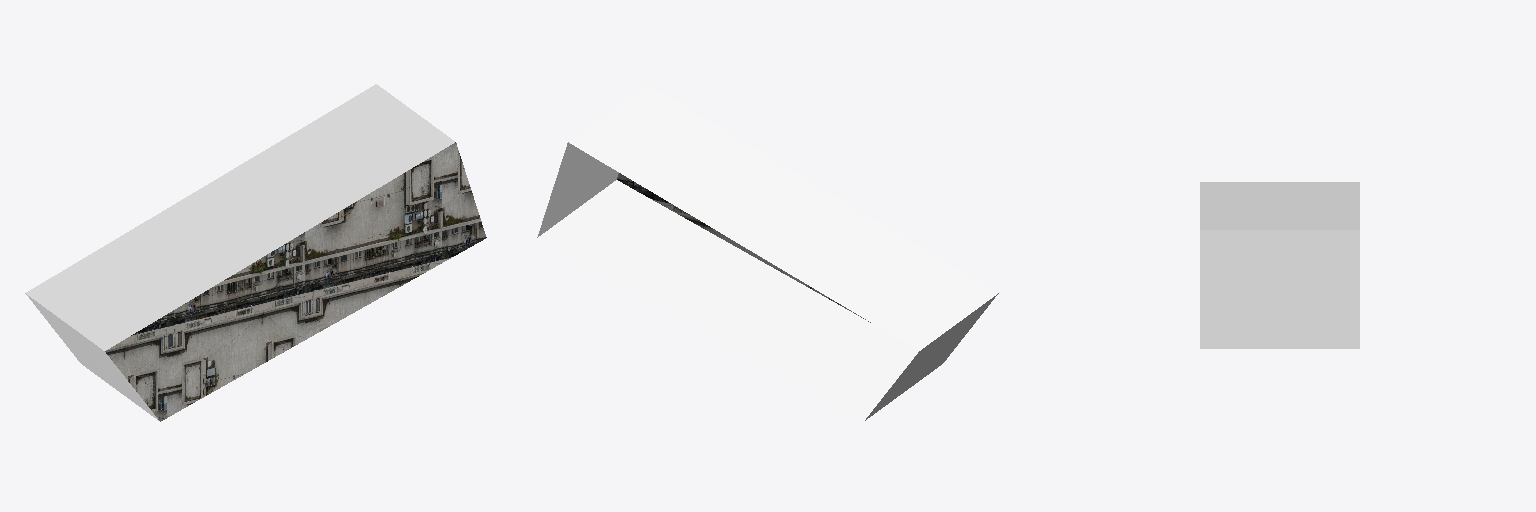
3 renders of one model, left to right at view 1: azimuth 30°, elevation 25°; view 2: azimuth 150°, elevation 25°; view 3: azimuth 270°, elevation 25°, orthographic.
Parts seen in each view (by area): view 1: Building; view 2: Building; view 3: Building.
Part boxes in pixels (x1,y1,x2,y2): Building: (25, 84, 486, 421); Building: (537, 84, 998, 421); Building: (1200, 182, 1359, 348).
Bounding box in the file's own units: 33.27 × 17.28 × 12.
2 materials, 1 textured.